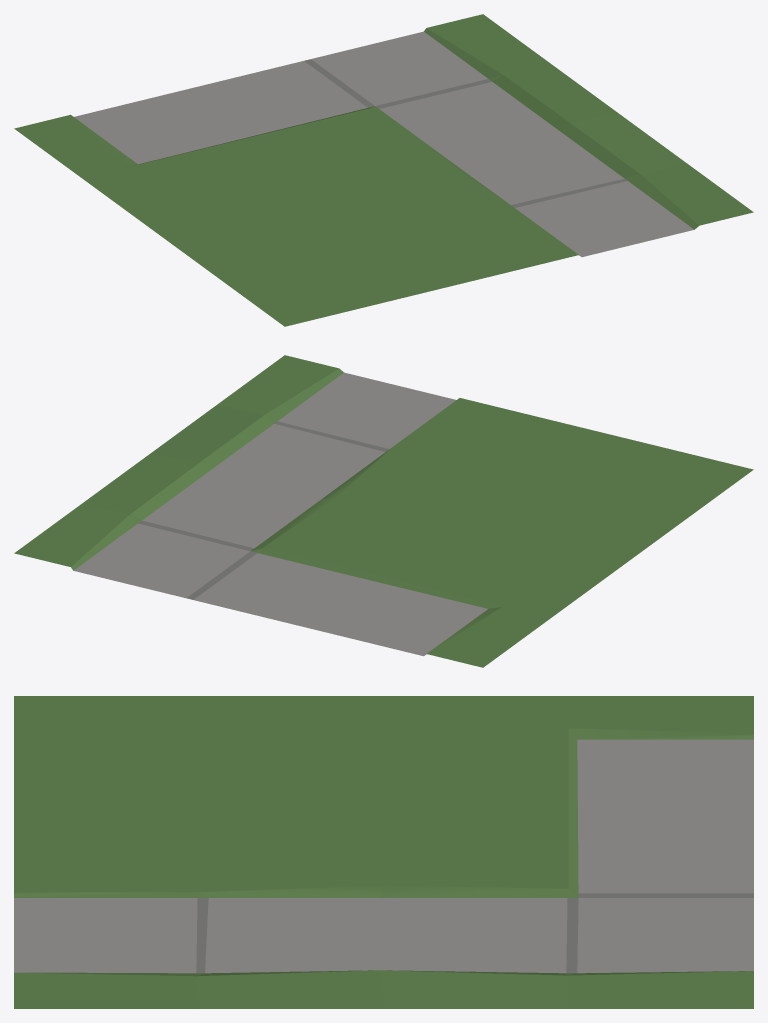
Rendered from SM_Env_Path_DoorLeft_01.fbx.
The picture shows the model from 3 angles, top to bottom: view 1: azimuth 30°, elevation 25°; view 2: azimuth 150°, elevation 25°; view 3: azimuth 270°, elevation 25°; orthographic projection. The views are drawn at different scales.
Parts seen in each view (by area): view 1: SM_Env_Path_DoorLeft_01; view 2: SM_Env_Path_DoorLeft_01; view 3: SM_Env_Path_DoorLeft_01.
Part boxes in pixels (left/top/right/bottom): SM_Env_Path_DoorLeft_01: left=14, top=14, right=753, bottom=326; SM_Env_Path_DoorLeft_01: left=14, top=355, right=753, bottom=667; SM_Env_Path_DoorLeft_01: left=14, top=696, right=753, bottom=1008.
Size of the model in its own units: 500 by 6.84 by 500.
